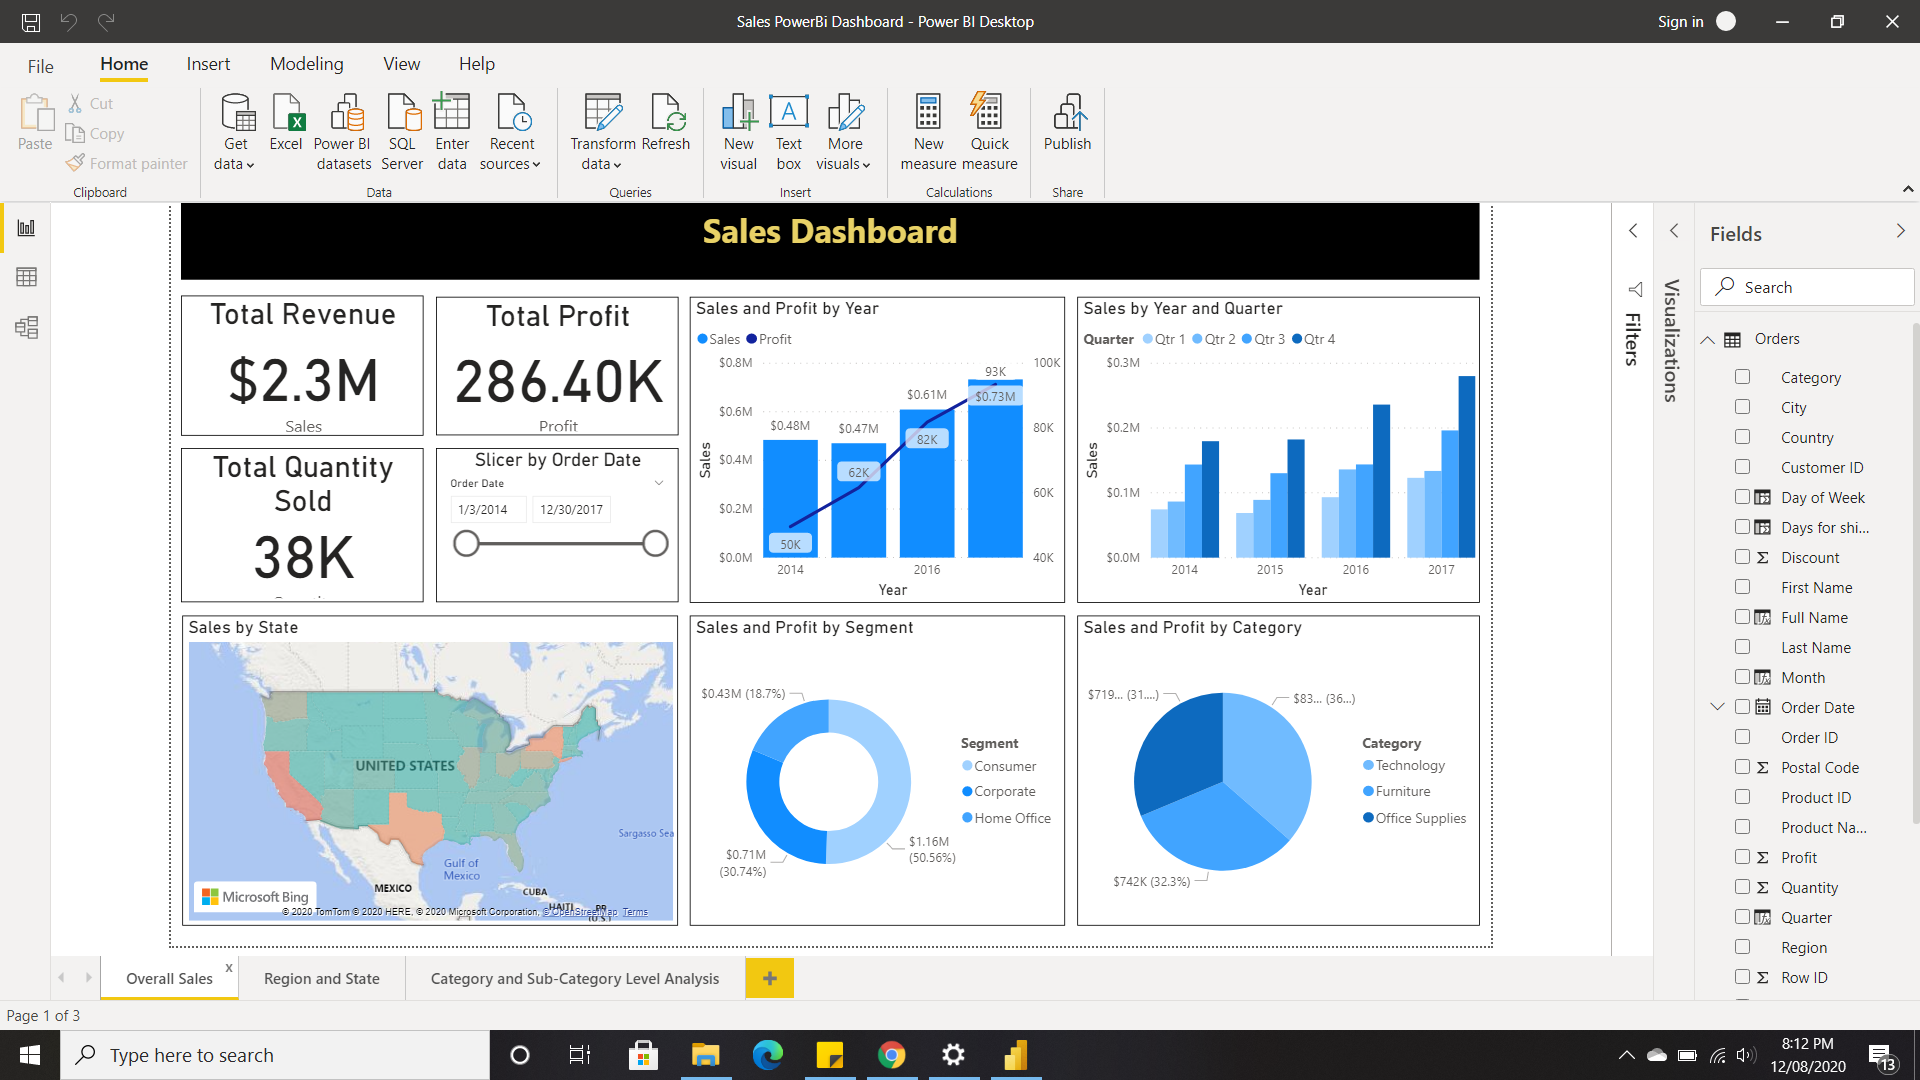

The page's visual inventory and layout, read from the dashboard file:
{"tool":"powerbi","page":{"name":"Overall Sales","canvas":[1280,720],"ordinal":0},"visuals":[{"type":"textbox","box":[9.6,0,1259.4,74.2],"z":0},{"type":"card","title":"Total Revenue","fields":{"Values":["Sum(Orders.Sales)"]},"box":[9.6,89.3,234.8,136],"z":1000},{"type":"card","title":"Total Quantity Sold","fields":{"Values":["Sum(Orders.Quantity)"]},"box":[9.6,237.6,234.8,149.7],"z":2000},{"type":"card","title":"Total Profit","fields":{"Values":["Sum(Orders.Profit)"]},"box":[256.8,90.6,234.8,134.6],"z":3000},{"type":"slicer","title":"Slicer by Order Date","fields":{"Values":["Orders.Order Date"]},"box":[256.8,237.6,234.8,149.7],"z":4000},{"type":"lineStackedColumnComboChart","fields":{"Category":["Orders.Order Date.Variation.Date Hierarchy.Year","Orders.Order Date.Variation.Date Hierarchy.Quarter","Orders.Order Date.Variation.Date Hierarchy.Month","Orders.Order Date.Variation.Date Hierarchy.Day"],"Y2":["Sum(Orders.Profit)"],"Y":["Sum(Orders.Sales)"]},"box":[502.7,90.6,363.9,296.7],"z":5000},{"type":"clusteredColumnChart","fields":{"Y":["Sum(Orders.Sales)"],"Category":["Orders.Year"],"Series":["Orders.Quarter"]},"box":[878.8,90.9,390.3,297],"z":6000},{"type":"filledMap","fields":{"Category":["Orders.State"]},"box":[11,399.7,480.7,300.8],"z":7000},{"type":"donutChart","fields":{"Category":["Orders.Segment"],"Y":["Sum(Orders.Sales)"]},"box":[503,400,364,301],"z":8000},{"type":"pieChart","fields":{"Category":["Orders.Category"],"Y":["Sum(Orders.Sales)"]},"box":[878.8,400,390.3,300.6],"z":9000}]}

Visuals, with their boxes on the page's 1280x720 design canvas (x1, y1, x2, y2). These are canvas units, not pixel positions in the 1920x1080 screenshot, which may show the page scaled, cropped or inside an application window:
textbox: Rect(10, 0, 1269, 74)
"Total Revenue" card: Rect(10, 89, 244, 225)
"Total Quantity Sold" card: Rect(10, 238, 244, 387)
"Total Profit" card: Rect(257, 91, 492, 225)
"Slicer by Order Date" slicer: Rect(257, 238, 492, 387)
lineStackedColumnComboChart - Orders.Order Date.Variation.Date Hierarchy.Year x Orders.Order Date.Variation.Date Hierarchy.Quarter: Rect(503, 91, 867, 387)
clusteredColumnChart - Sum(Orders.Sales) x Orders.Year: Rect(879, 91, 1269, 388)
filledMap - Orders.State: Rect(11, 400, 492, 700)
donutChart - Orders.Segment x Sum(Orders.Sales): Rect(503, 400, 867, 701)
pieChart - Orders.Category x Sum(Orders.Sales): Rect(879, 400, 1269, 701)
